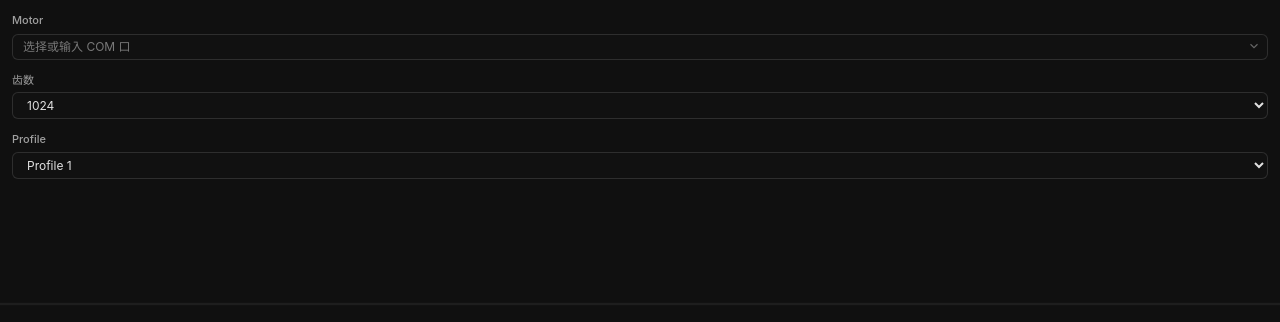
Test case: ScriptCanvasUi › hides the leading empty Select… choice when allowEmpty is false
Click the button named "Toggle options": click(1254, 46) [1240,32,1268,60]
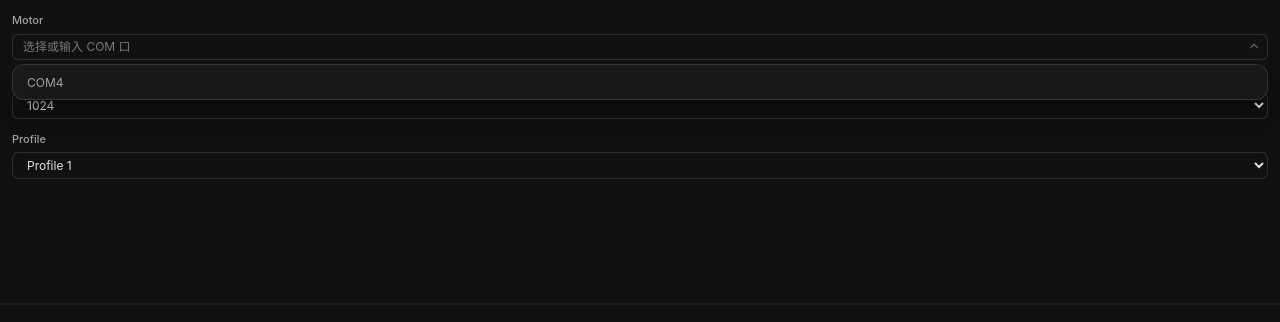
expect the button "COM4" is shown: met, box [17,70,1263,94]
